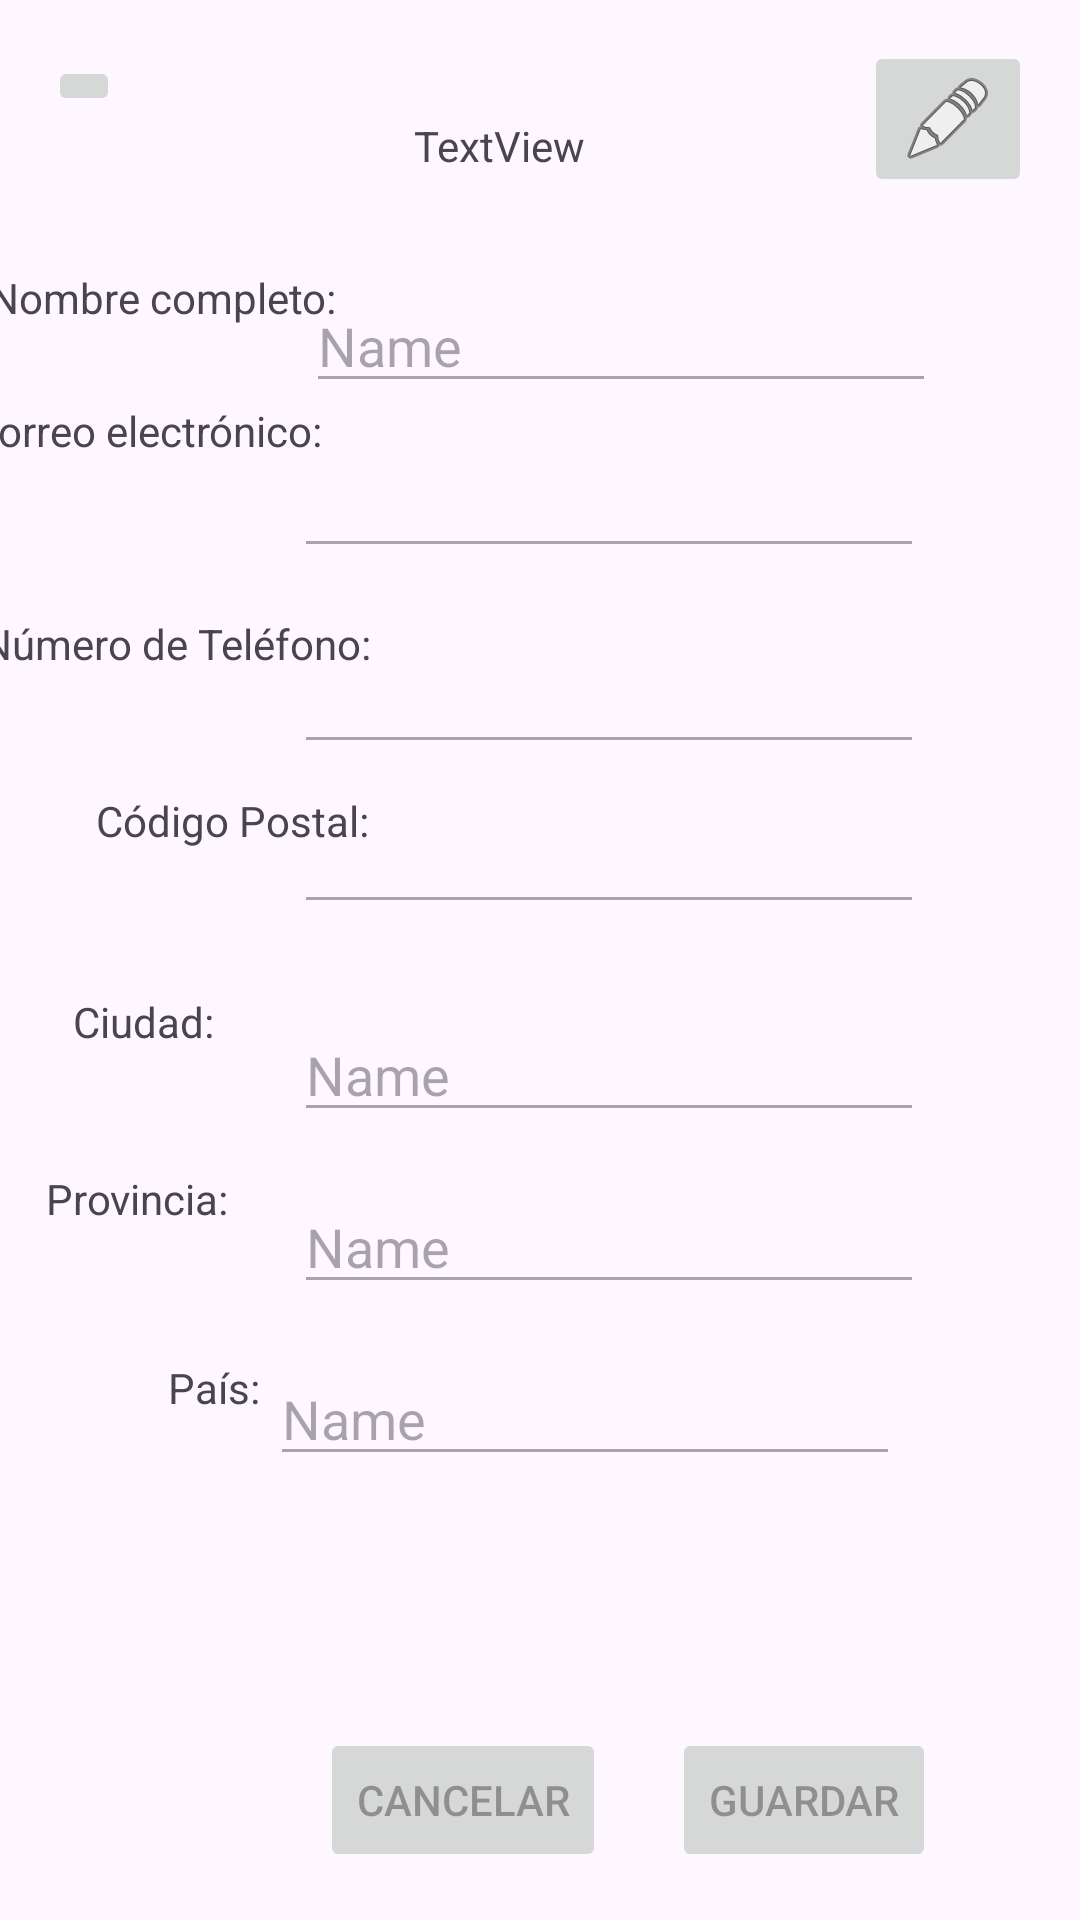

Icon bounding boxes for this 1080*1920 phone screenshot, format (x1, y1, x2, y2):
edit: (876, 59, 1020, 179)
